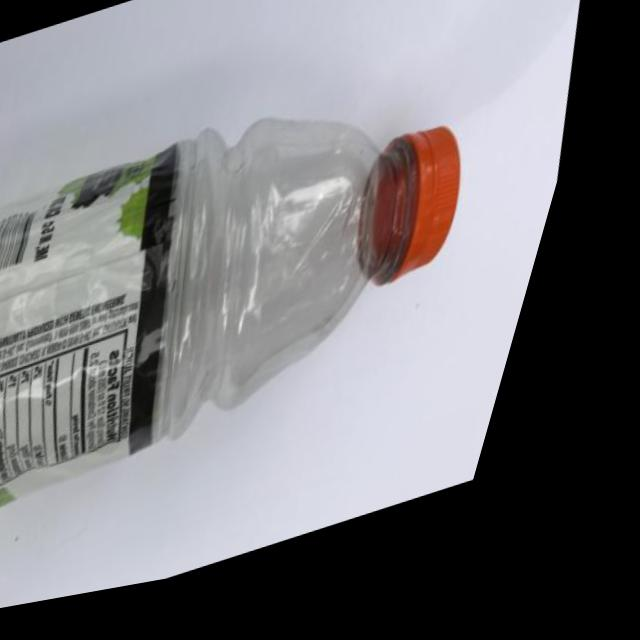plastic: (0, 29, 568, 626)
